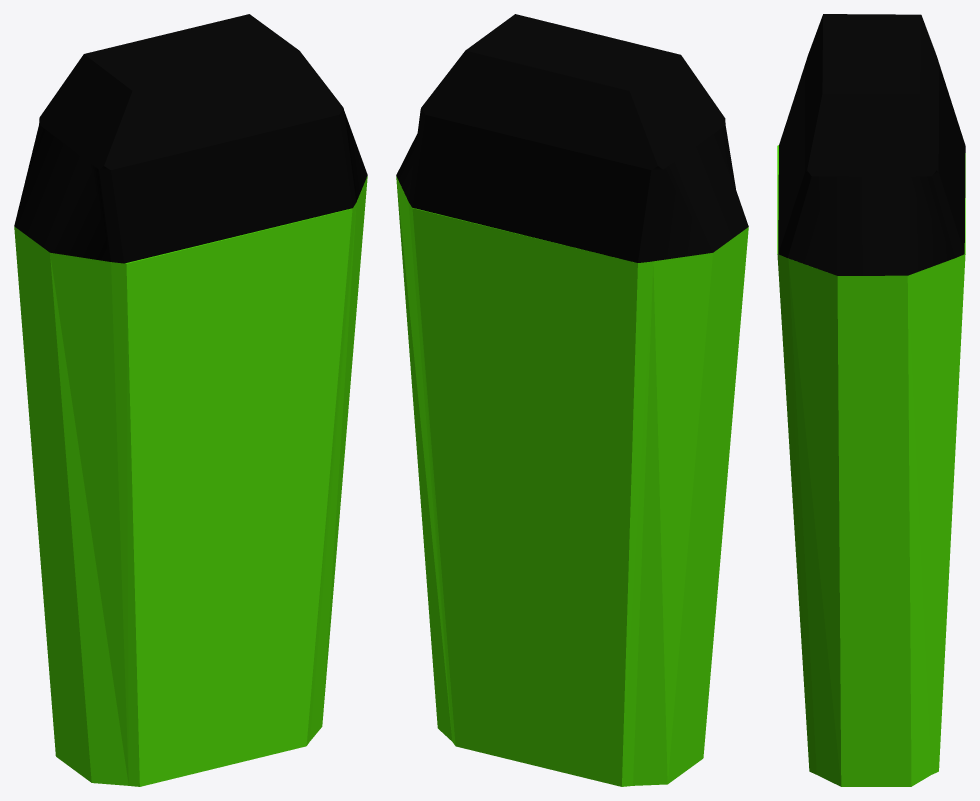
Rendered from Stabilu_v2.fbx.
3 views of the same model, side by side, from view 1: azimuth 30°, elevation 25°; view 2: azimuth 150°, elevation 25°; view 3: azimuth 270°, elevation 25° (orthographic).
Parts seen in each view (by area): view 1: pCube1, pCube2; view 2: pCube1, pCube2; view 3: pCube1, pCube2.
Part boxes in pixels (bbox=[...]): pCube1: bbox=[14, 176, 367, 786]; pCube2: bbox=[14, 14, 367, 263]; pCube1: bbox=[396, 176, 748, 786]; pCube2: bbox=[396, 14, 748, 262]; pCube1: bbox=[777, 145, 965, 786]; pCube2: bbox=[778, 14, 965, 275].
Bounding box in the file's own units: 3.25 × 6.74 × 1.7.
